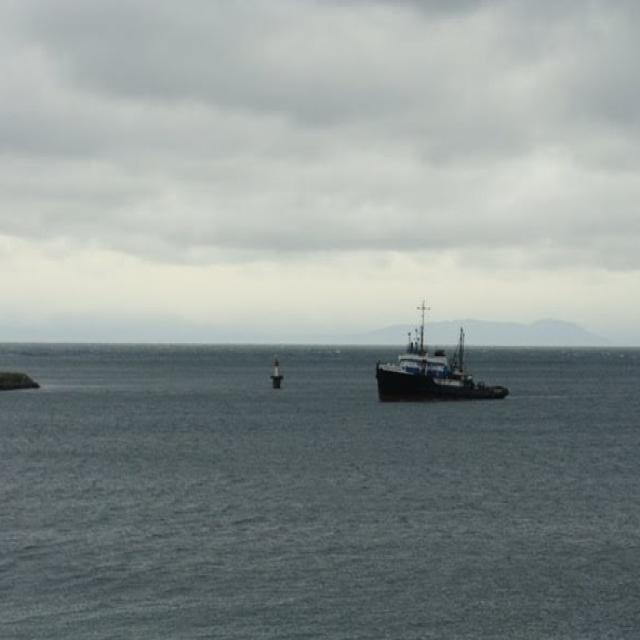fishing boat: (369, 298, 500, 404)
